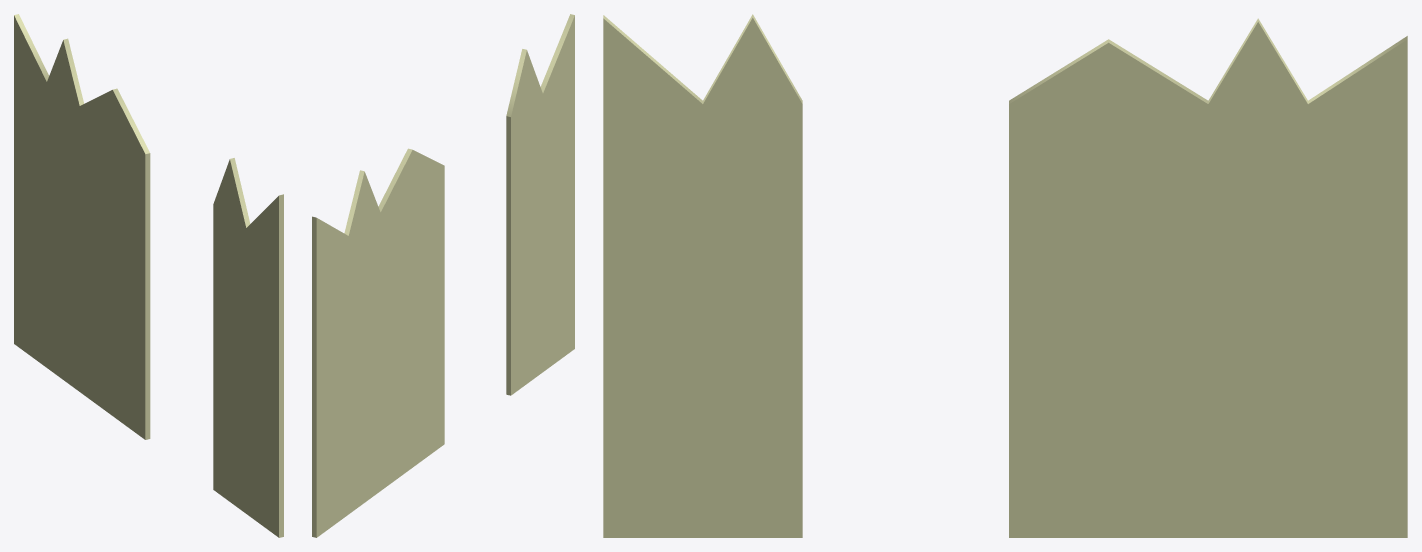
The model's file is 2NDFloorWalls.fbx.
3 renders of one model, left to right at view 1: azimuth 30°, elevation 25°; view 2: azimuth 150°, elevation 25°; view 3: azimuth 270°, elevation 25°, orthographic. The views are drawn at different scales.
Visible parts, largest first — view 1: Half2nd, Single2nd; view 2: Half2nd, Single2nd; view 3: Half2nd, Single2nd.
Part boxes in pixels (x1,y1,x2,y2): Half2nd: (14,14,150,439); Single2nd: (213,158,283,537); Half2nd: (312,148,444,537); Single2nd: (506,14,574,395); Half2nd: (1009,18,1407,537); Single2nd: (603,14,802,537).
Size of the model in its own units: 2.8 by 191 by 268.
